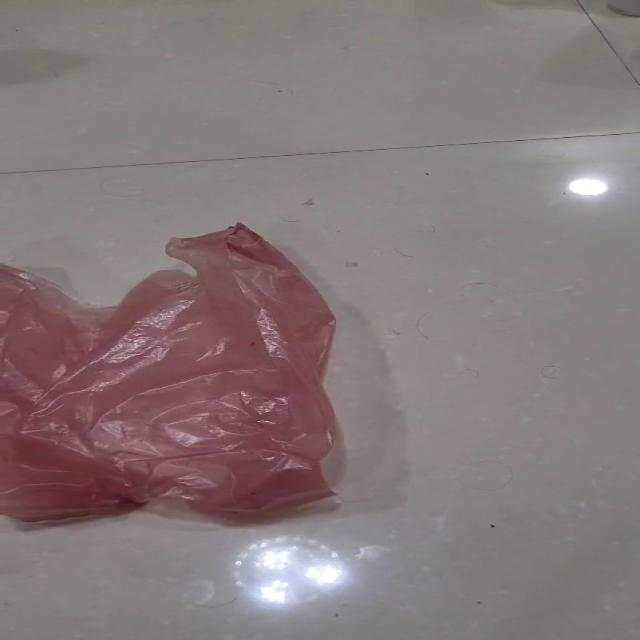plastic: (0, 220, 341, 521)
